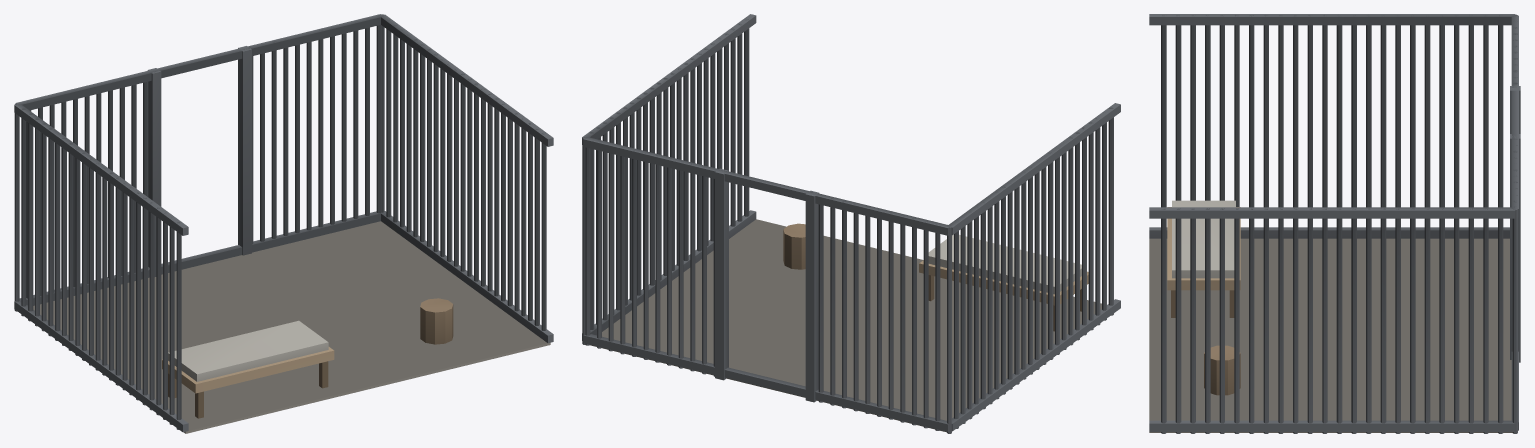
Rendered from jail_cell_low.glb.
3 views of the same model, side by side, from view 1: azimuth 30°, elevation 25°; view 2: azimuth 150°, elevation 25°; view 3: azimuth 270°, elevation 25° (orthographic). The views are drawn at different scales.
Size of the model in its own units: 5.08 by 2.7 by 4.06.
